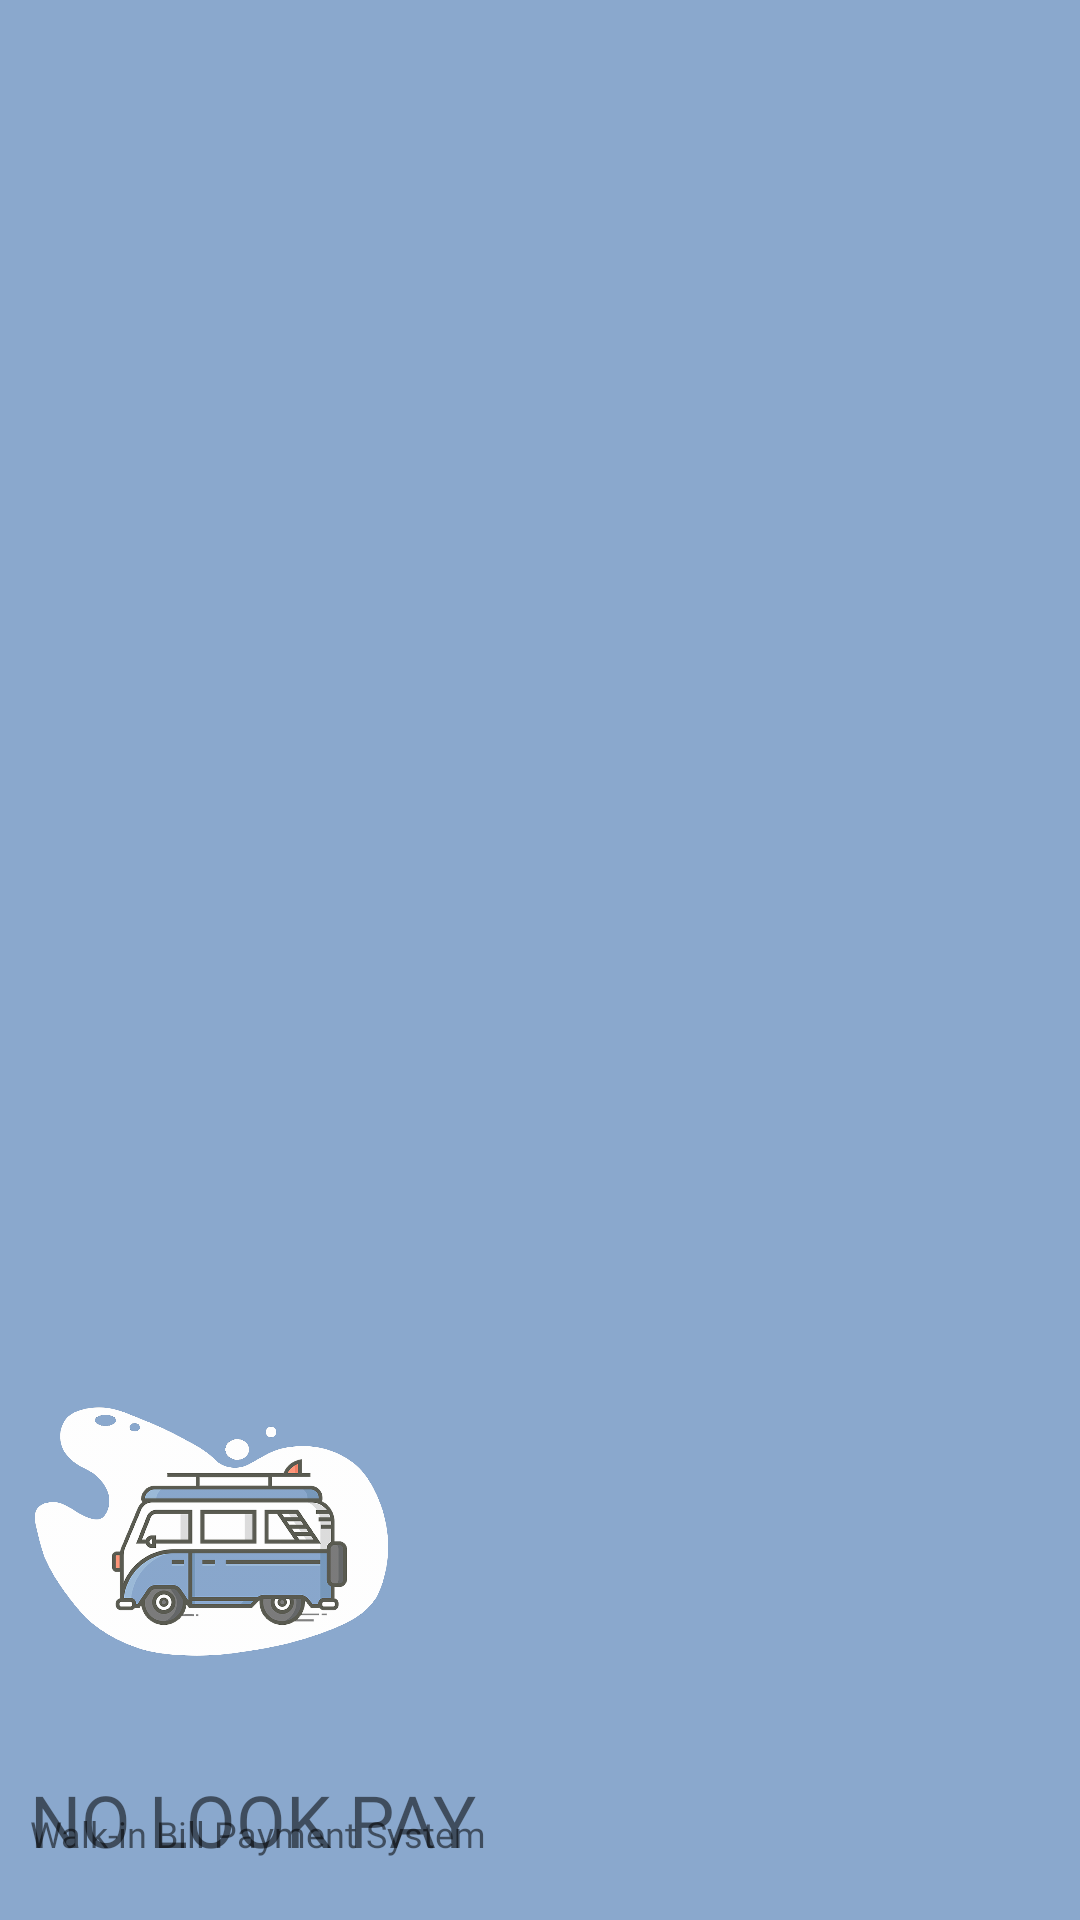

Icons on this 1080px x 1920px Android screen, each with the point to tap as [x,y]:
intro bus: [211,1531]
